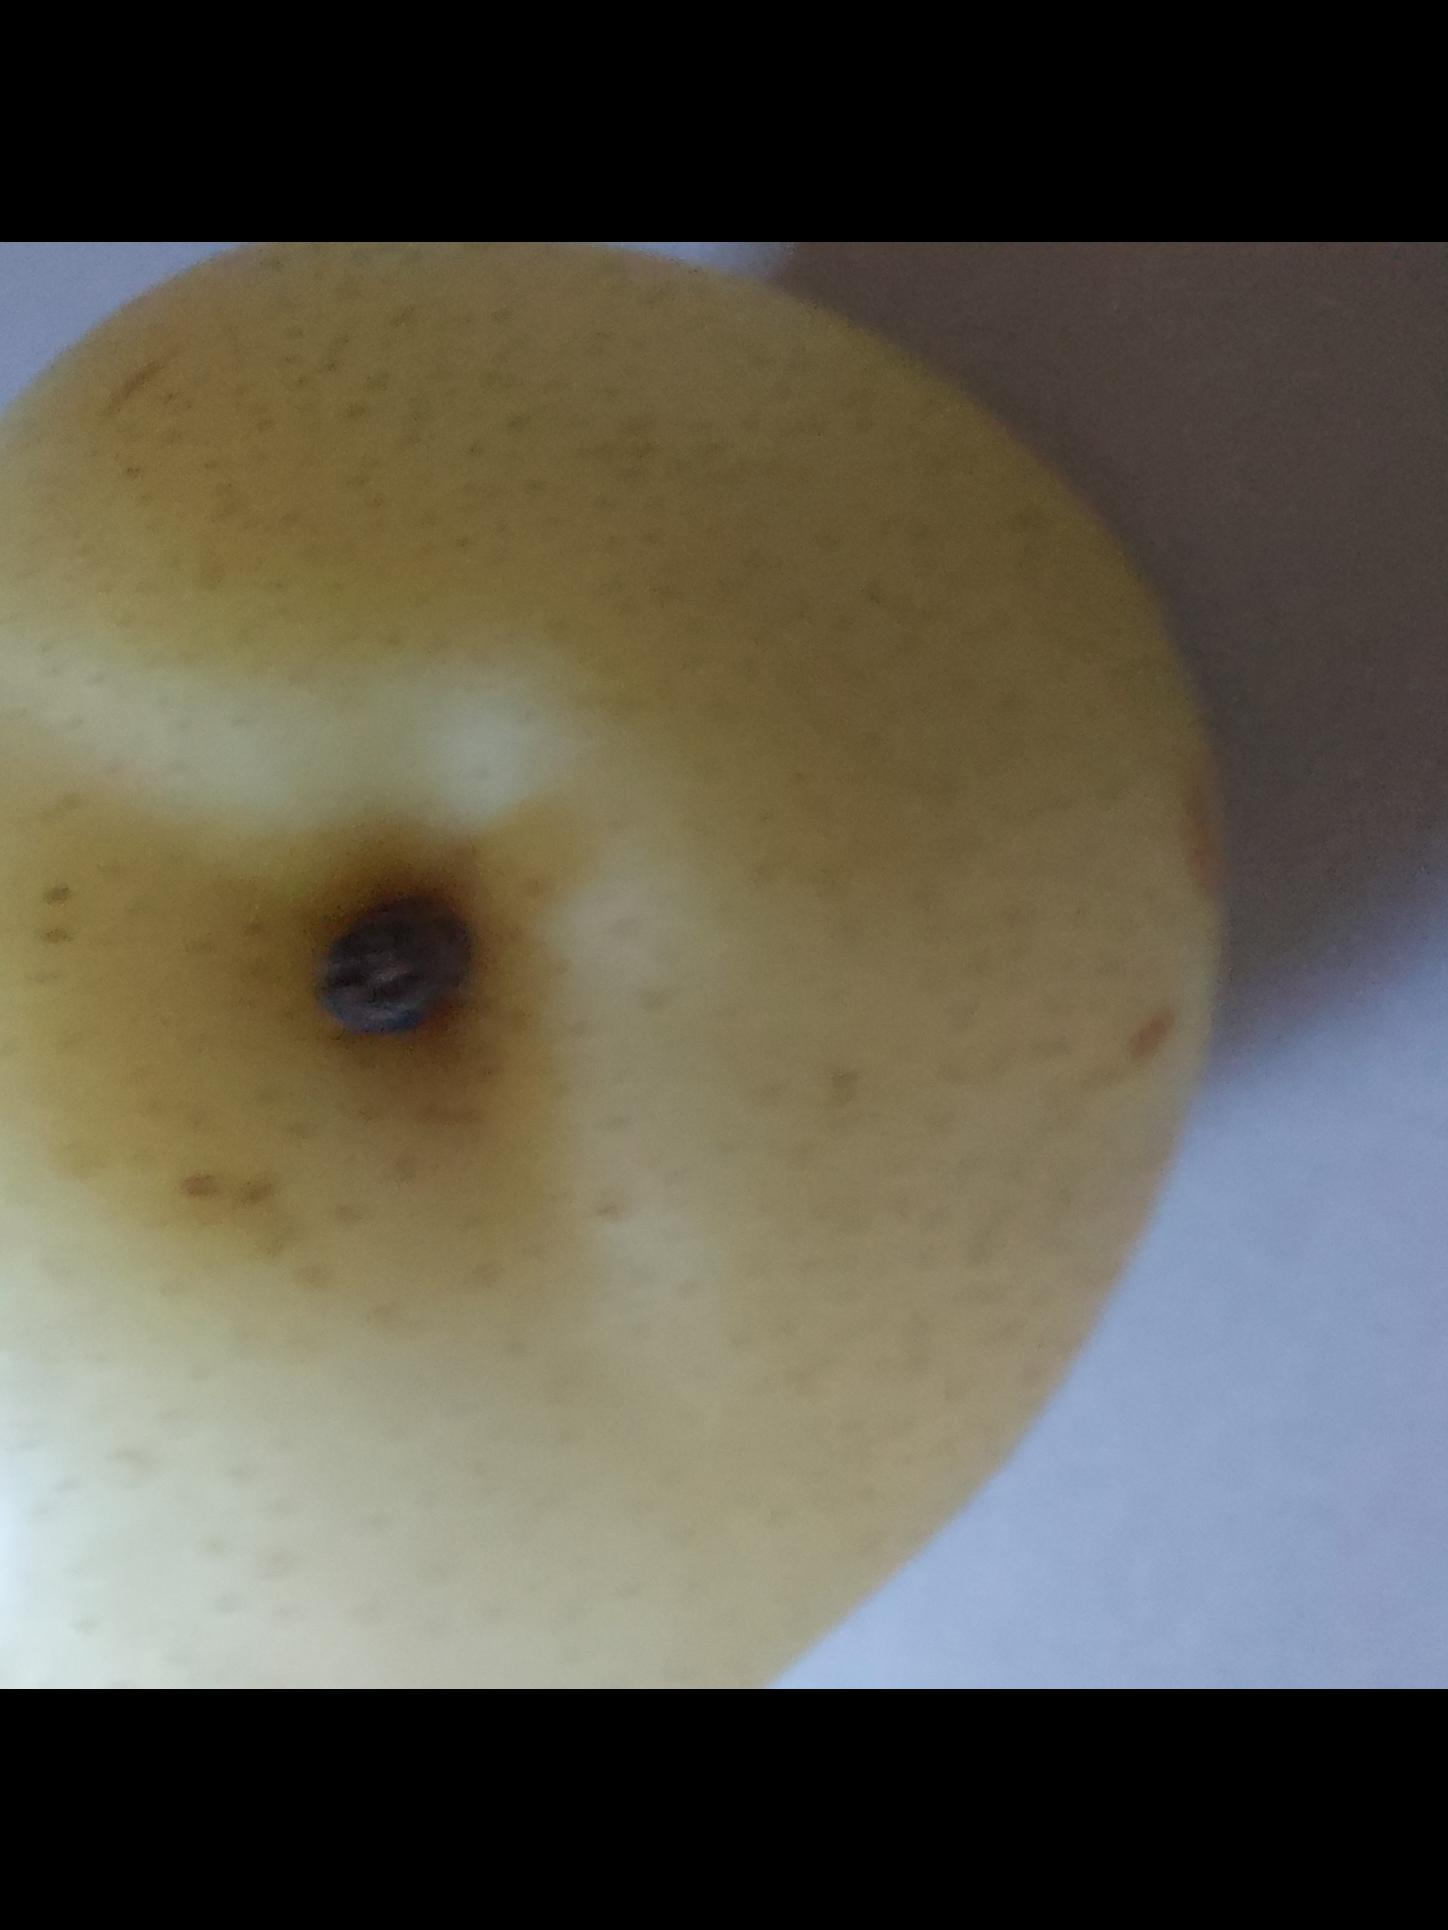Good Pear: (0, 240, 1241, 1690)
